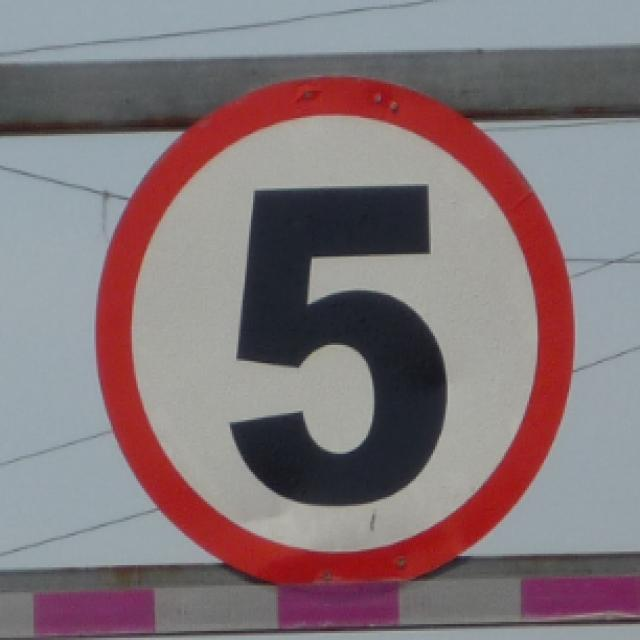Speed: (81, 58, 591, 600)
